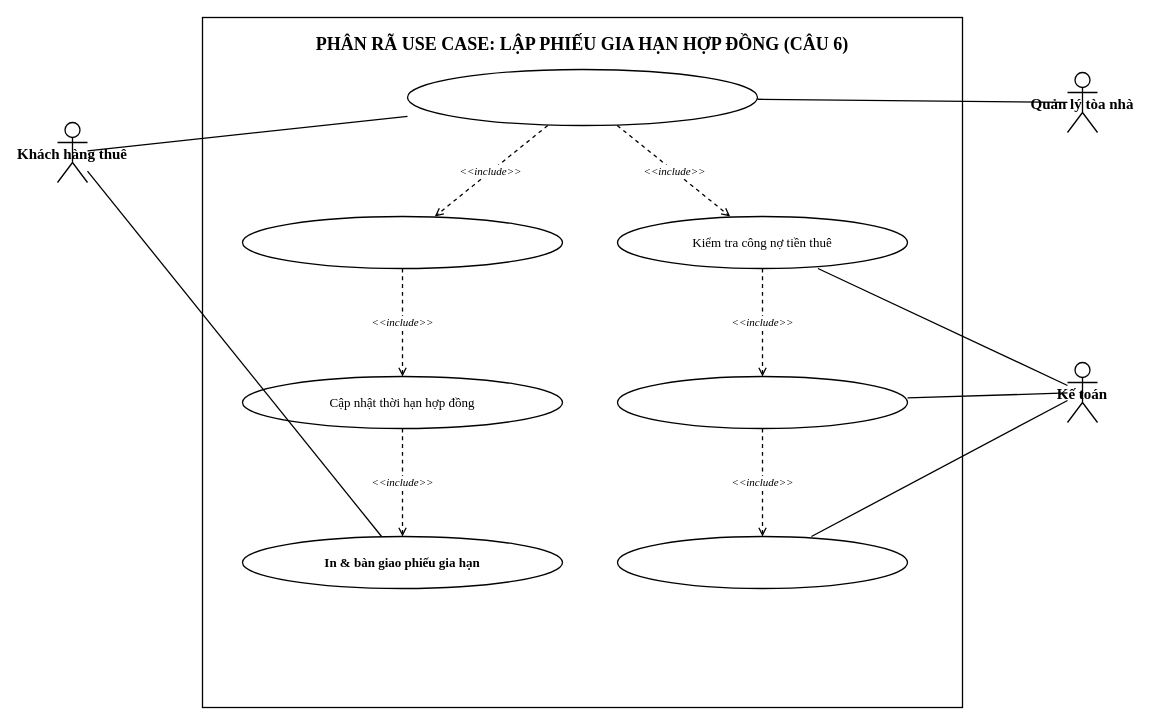
Some shapes in this 1151 by 726 pixel diagram are drawn without their labels. Here are the shapes that lost their labels. From the top down, the centre of each, then its label:
At point 582,97: "Lập phiếu gia hạn hợp đồng".
At point 402,242: "Kiểm tra thời gian gia hạn (≤ ½ T_gốc)".
At point 762,402: "Kiểm tra thanh toán dịch vụ".
At point 762,562: "Thu tiền đặt cọc / gia hạn".
